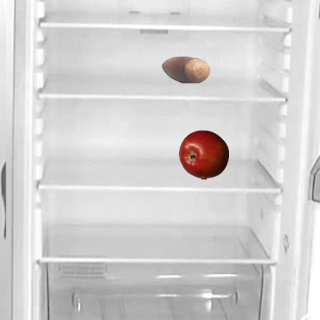Apple Braeburn: (178, 129, 228, 179)
Hazelnut: (160, 44, 210, 94)
